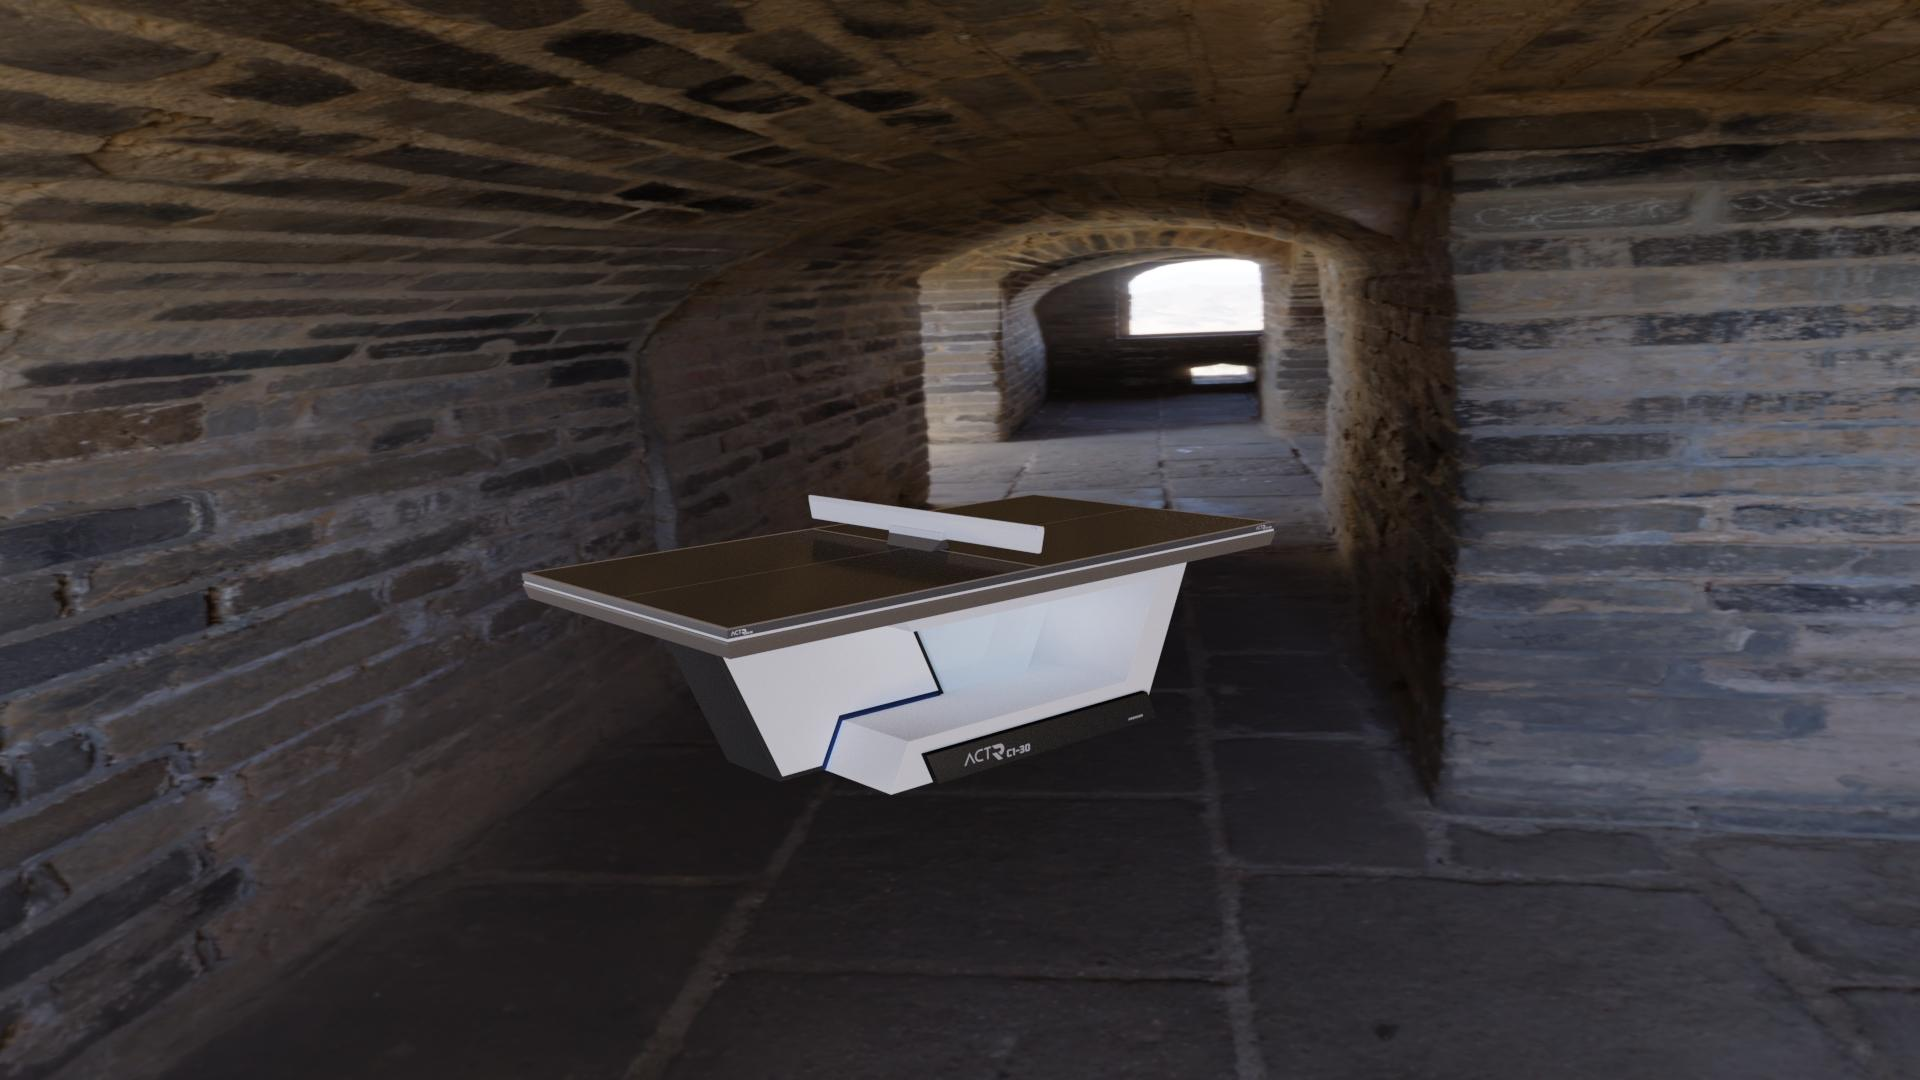table: (529, 495, 1269, 628)
